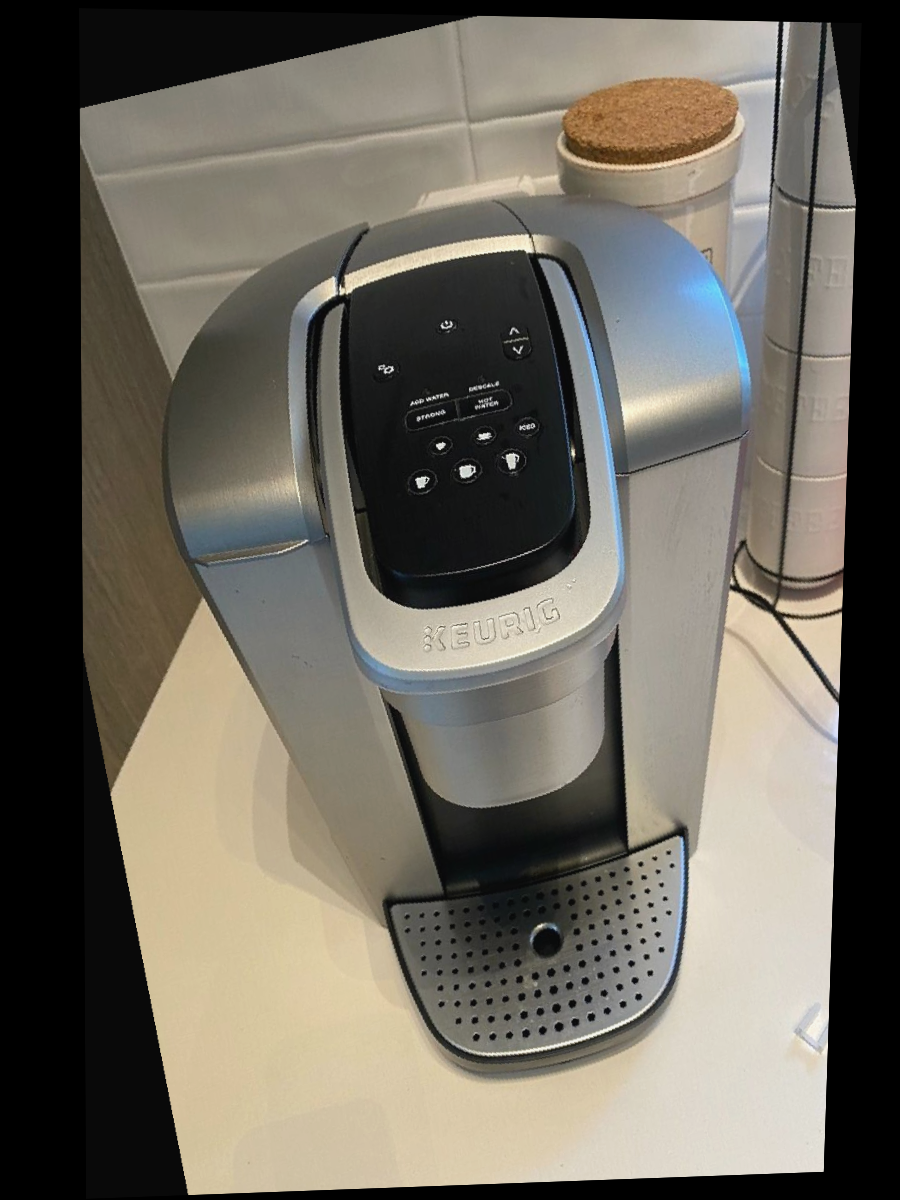10oz: (448, 458, 487, 488)
12oz: (494, 448, 532, 478)
4oz: (426, 436, 454, 456)
6oz: (468, 424, 500, 446)
8oz: (403, 468, 441, 498)
add_water: (391, 374, 455, 411)
coffee_handle: (391, 627, 603, 712)
descale: (449, 361, 513, 398)
hot: (455, 386, 519, 423)
iced: (512, 417, 543, 438)
platform: (521, 913, 574, 965)
power: (432, 315, 463, 336)
strong: (397, 399, 460, 436)
water_handle: (189, 537, 304, 569)
